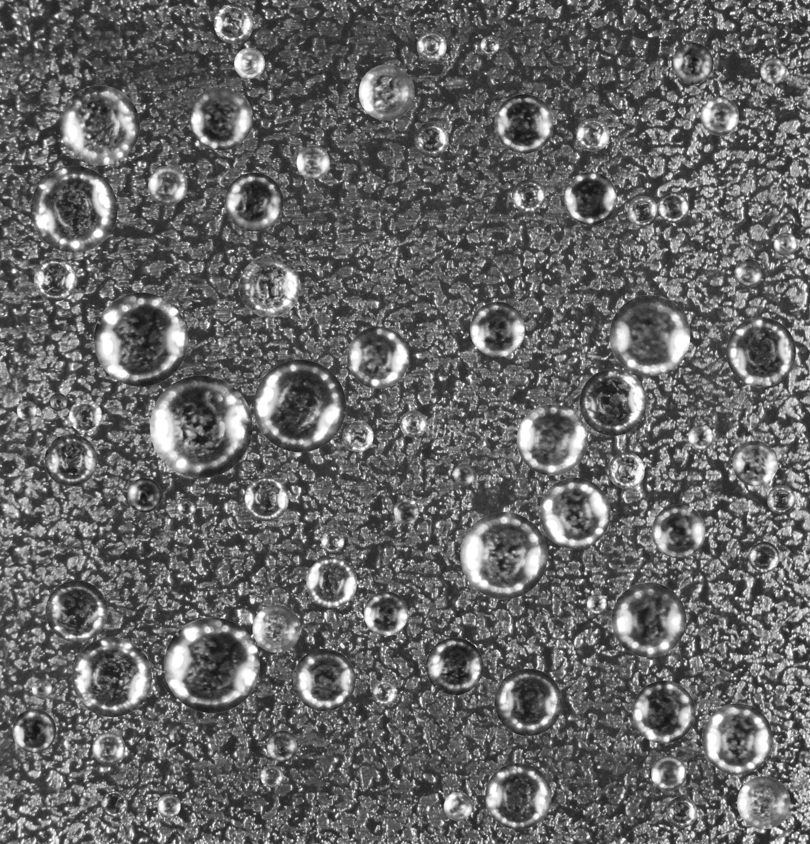Bubble: (149, 375, 252, 478), (164, 617, 259, 713), (93, 292, 187, 386), (253, 359, 346, 452), (460, 512, 547, 599), (30, 165, 117, 252), (609, 295, 690, 375), (59, 85, 139, 165), (72, 637, 151, 717), (611, 582, 686, 657), (539, 477, 610, 549), (516, 404, 587, 475), (702, 703, 773, 774), (726, 317, 795, 386), (494, 668, 562, 736), (579, 368, 646, 435), (485, 763, 551, 829), (189, 86, 252, 150), (632, 680, 695, 743), (293, 648, 355, 711), (347, 326, 409, 388), (45, 580, 107, 642), (239, 256, 300, 317), (224, 172, 283, 231), (494, 94, 553, 153), (426, 637, 483, 695), (358, 64, 414, 120), (470, 301, 525, 356), (651, 504, 705, 558), (737, 776, 790, 829), (564, 172, 617, 225), (44, 434, 97, 486), (306, 557, 357, 607), (252, 604, 300, 652), (732, 440, 778, 486), (363, 591, 408, 635), (244, 477, 288, 521), (12, 709, 56, 752), (33, 258, 76, 301), (672, 42, 713, 84), (213, 4, 253, 43), (148, 165, 187, 205), (700, 97, 739, 135), (608, 452, 644, 488), (651, 755, 686, 791), (414, 122, 448, 156), (127, 478, 161, 512), (296, 145, 329, 179), (576, 118, 609, 151), (69, 399, 102, 432), (512, 179, 545, 212), (92, 732, 125, 764), (266, 730, 298, 761), (666, 796, 697, 828), (748, 541, 779, 572), (342, 420, 373, 451), (627, 196, 658, 226), (234, 47, 264, 78), (658, 192, 689, 222), (416, 31, 446, 61), (443, 792, 472, 820), (735, 259, 763, 287), (767, 485, 795, 513), (400, 410, 426, 437), (101, 791, 127, 817), (393, 498, 419, 524), (760, 58, 785, 83), (688, 424, 713, 449), (372, 680, 396, 705), (773, 232, 797, 256), (321, 529, 344, 552), (157, 794, 180, 817), (260, 765, 283, 787), (453, 463, 475, 485), (31, 679, 51, 699), (16, 400, 36, 420), (587, 594, 606, 614), (480, 35, 499, 54), (177, 498, 195, 517), (49, 393, 67, 411)
